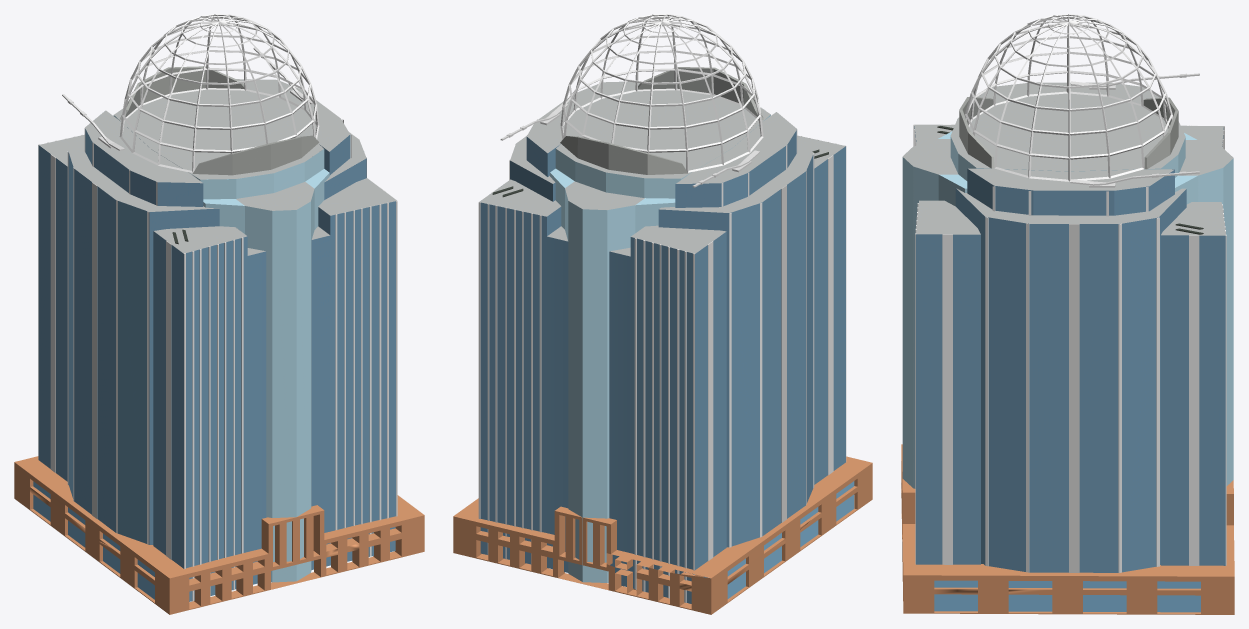
Rendered from solutions.glb.
3 views of the same model, side by side, from view 1: azimuth 30°, elevation 25°; view 2: azimuth 150°, elevation 25°; view 3: azimuth 270°, elevation 25° (orthographic). The views are drawn at different scales.
Parts seen in each view (by area): view 1: Plane.130; view 2: Plane.130; view 3: Plane.130.
Boxes of the visible parts, bbox=[...] form: Plane.130: bbox=[14, 14, 424, 614]; Plane.130: bbox=[453, 14, 872, 614]; Plane.130: bbox=[901, 14, 1234, 614].
Size of the model in its own units: 530 by 985 by 565.
1 material, 1 textured.
